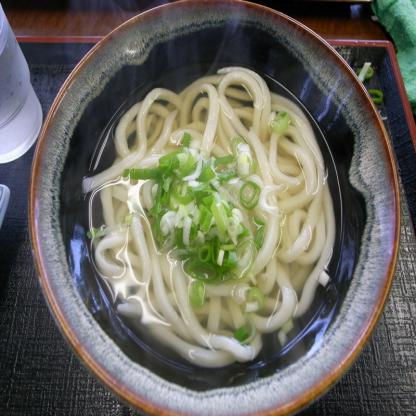Noodles: (82, 64, 336, 364)
